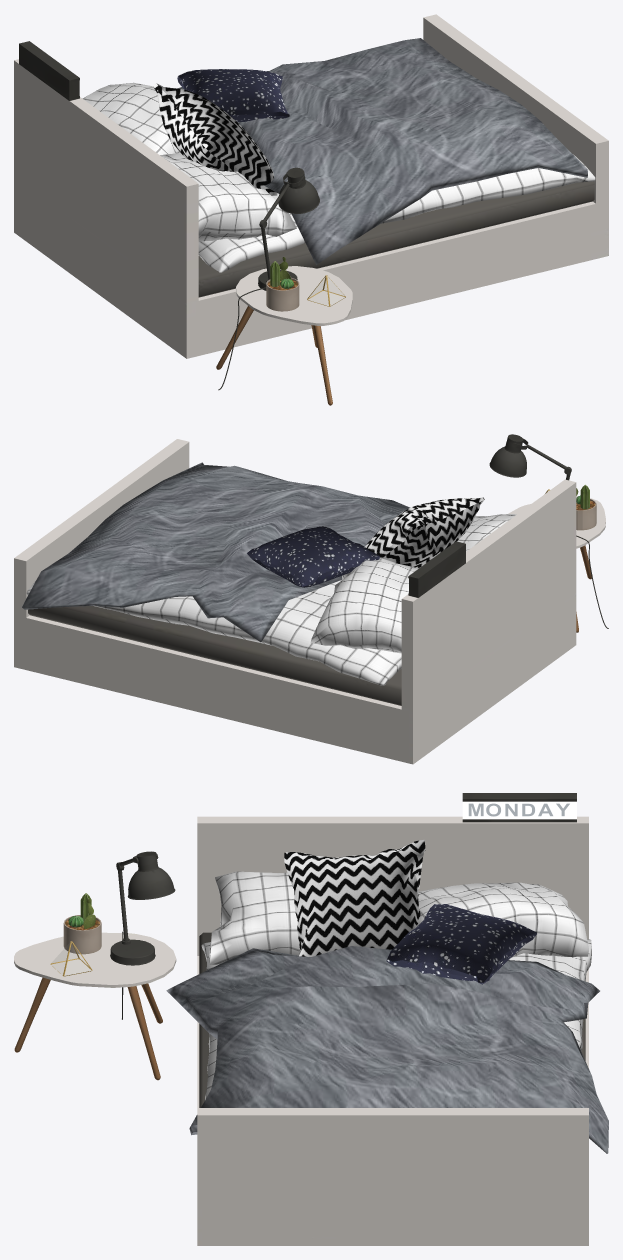
Rendered from bedroom_corner.glb.
3 renders of one model, top to bottom at view 1: azimuth 30°, elevation 25°; view 2: azimuth 150°, elevation 25°; view 3: azimuth 270°, elevation 25°, orthographic. The views are drawn at different scales.
Visible parts, largest first — view 1: Object_5, Object_6, Object_2, Object_4, Object_3, Object_7; view 2: Object_6, Object_5, Object_2, Object_3, Object_4, Object_7; view 3: Object_5, Object_6, Object_3, Object_4, Object_7, Object_2.
Boxes of the visible parts, x1=… form: Object_5: x1=82, y1=38, x2=595, y2=272; Object_6: x1=14, y1=14, x2=608, y2=358; Object_2: x1=198, y1=181, x2=594, y2=297; Object_4: x1=216, y1=266, x2=352, y2=405; Object_3: x1=19, y1=41, x2=345, y2=306; Object_7: x1=218, y1=261, x2=299, y2=390; Object_6: x1=14, y1=439, x2=576, y2=764; Object_5: x1=22, y1=462, x2=516, y2=685; Object_2: x1=28, y1=606, x2=401, y2=705; Object_3: x1=408, y1=434, x2=596, y2=597; Object_4: x1=508, y1=496, x2=605, y2=632; Object_7: x1=576, y1=484, x2=608, y2=628; Object_5: x1=166, y1=840, x2=608, y2=1153; Object_6: x1=197, y1=816, x2=588, y2=1245; Object_3: x1=50, y1=793, x2=576, y2=976; Object_4: x1=14, y1=932, x2=176, y2=1080; Object_7: x1=63, y1=893, x2=123, y2=1019; Object_2: x1=199, y1=932, x2=585, y2=1107.
Size of the model in its own units: 96.32 by 43.39 by 103.
Materials: 5 (5 with a texture image).
